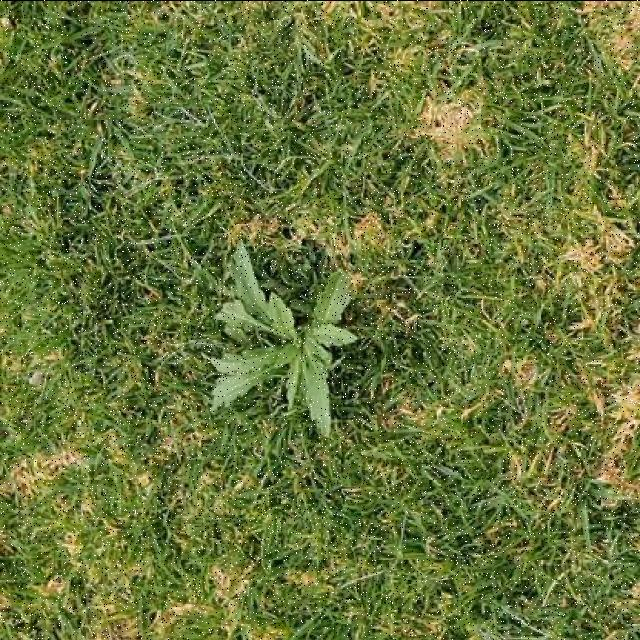weed: (211, 245, 356, 434)
